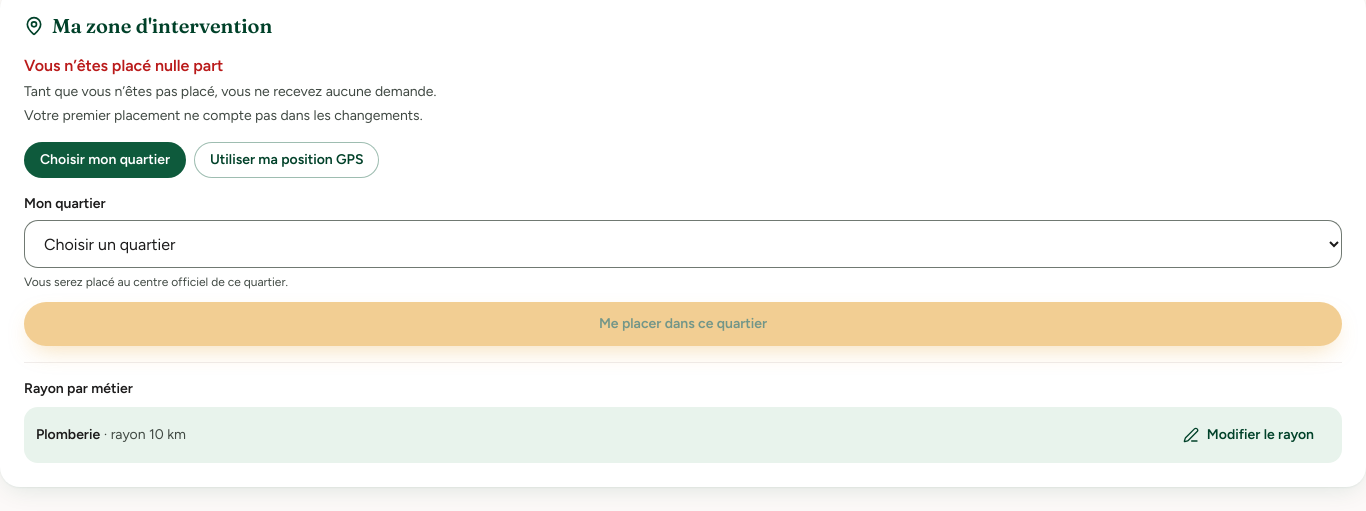
Test: ArtisanZoneSection › GPS : demandé sur clic seulement, arrondi annoncé, envoyé tel quel au serveur
The image size is (1366, 511).
Later steps or results of the test are not shown.
Click the button "Utiliser ma position GPS". click: {"x": 287, "y": 160}
box: [194,142,380,178]
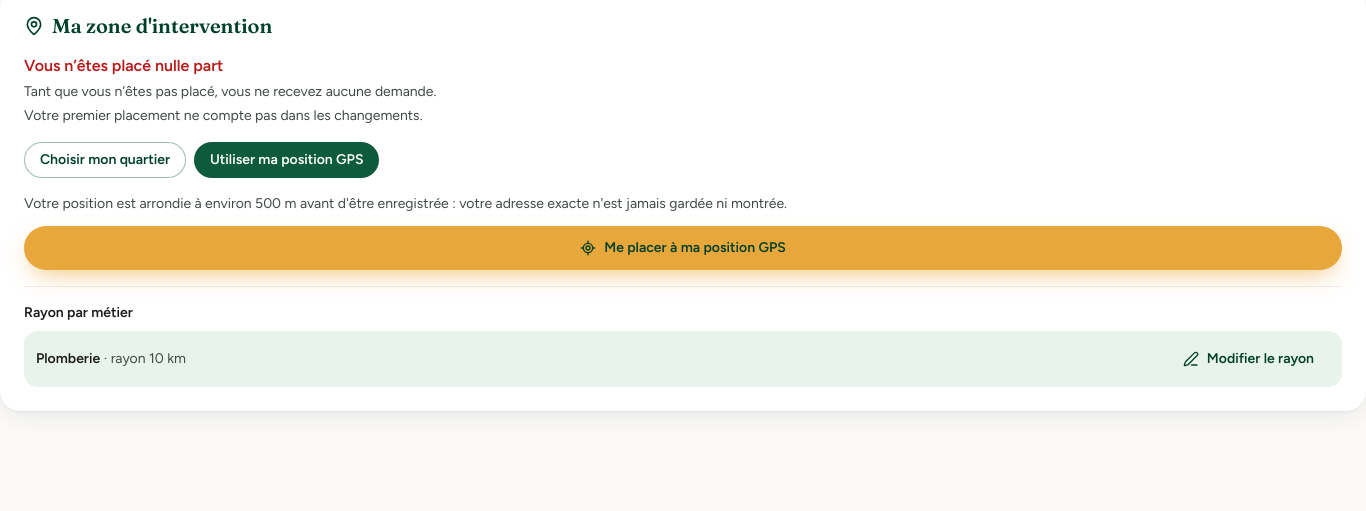
Result: the text "arrondie à environ 500 m" is shown at [24,195,787,212]
